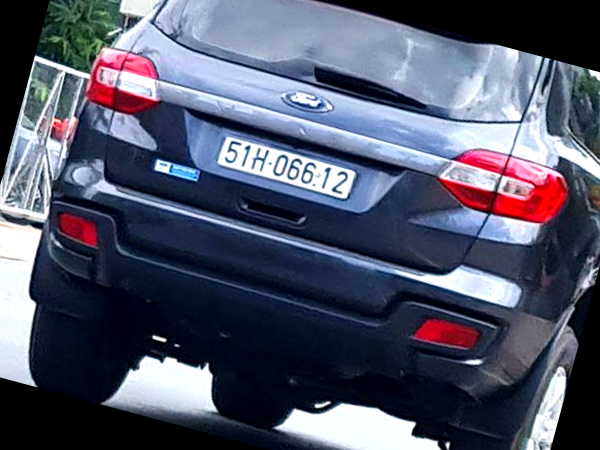lisence: (219, 137, 354, 199)
